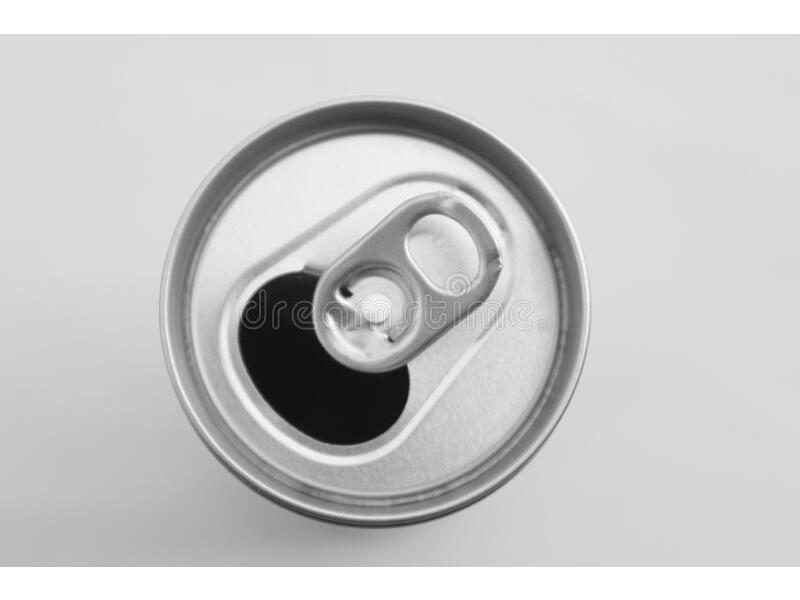can: (152, 89, 597, 530)
